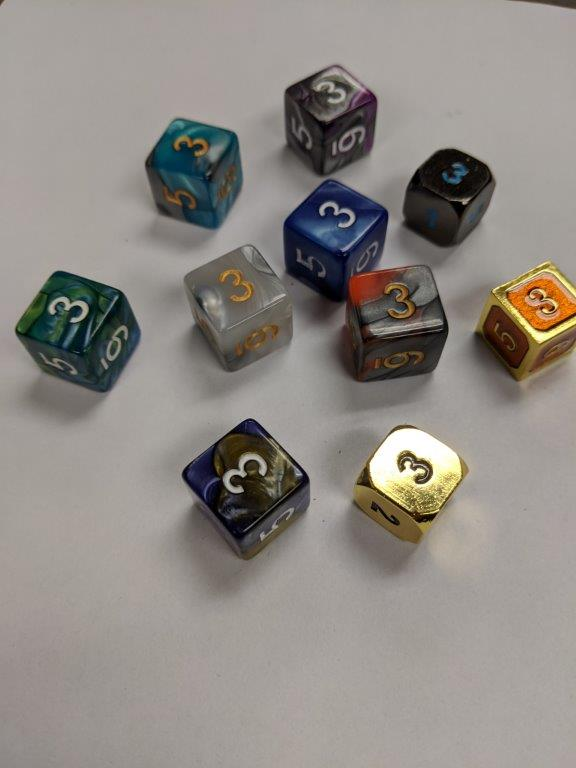d6-3: (181, 416, 312, 558), (15, 268, 144, 397), (353, 424, 471, 551), (183, 244, 293, 370), (283, 173, 388, 299), (477, 262, 576, 387), (143, 117, 246, 232), (347, 264, 447, 381), (283, 62, 378, 174), (406, 145, 493, 250)
